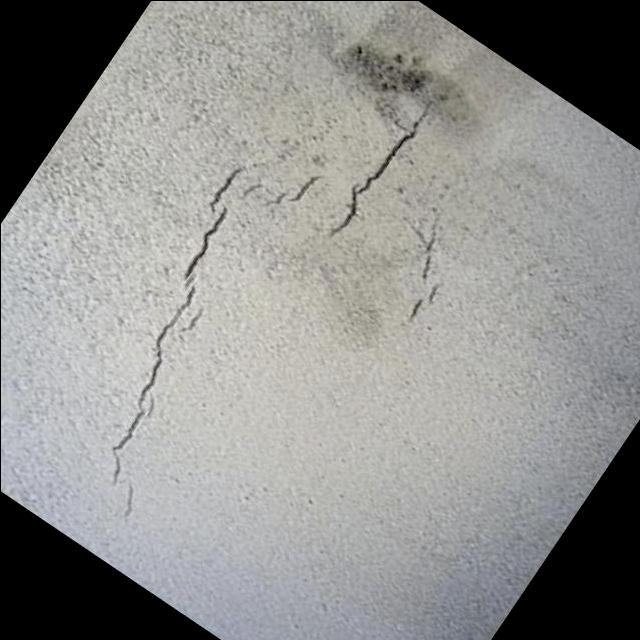defect: (107, 162, 326, 521), (326, 97, 436, 236), (402, 228, 444, 327)
